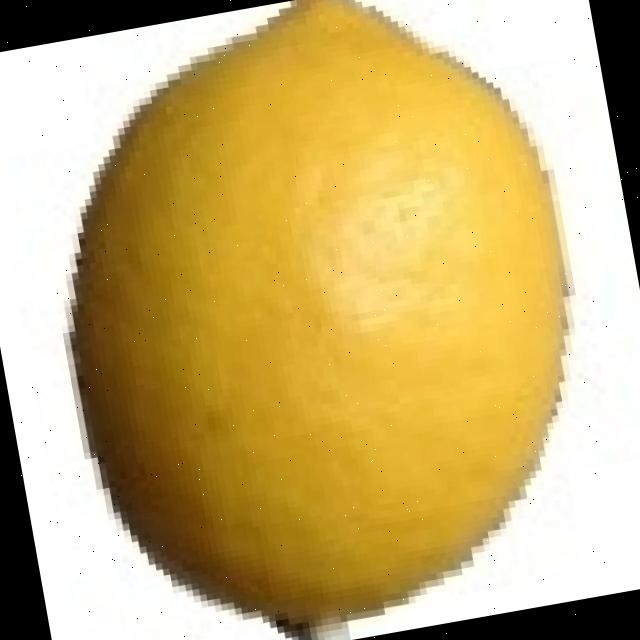lemon: (72, 0, 563, 638)
